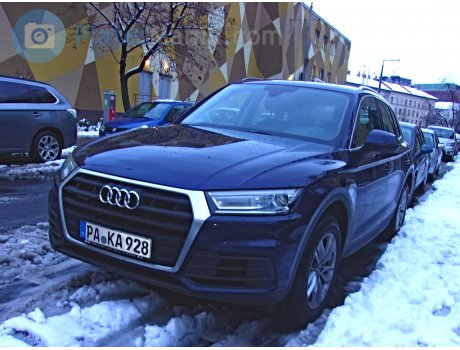License Plates: (81, 220, 149, 252)
